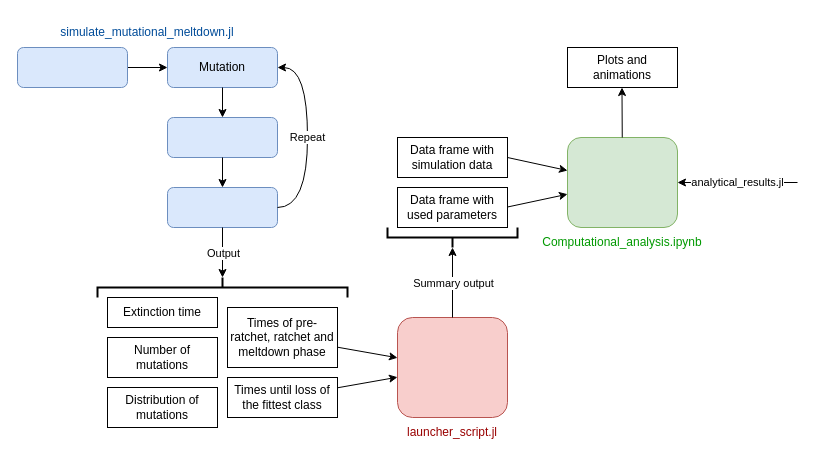
The diagram is 823 pixels wide and 464 high, and some of its shapes have lost their labels. Each missing label, with the centre of its shape:
"Initialisation" belongs at point 72,67.
"Population size control" belongs at point 222,207.
"Reproduction" belongs at point 222,137.
"Run the simulations for a range of parameters and number of replications" belongs at point 452,367.
"Visualisation and comparison with analytical results" belongs at point 622,182.
